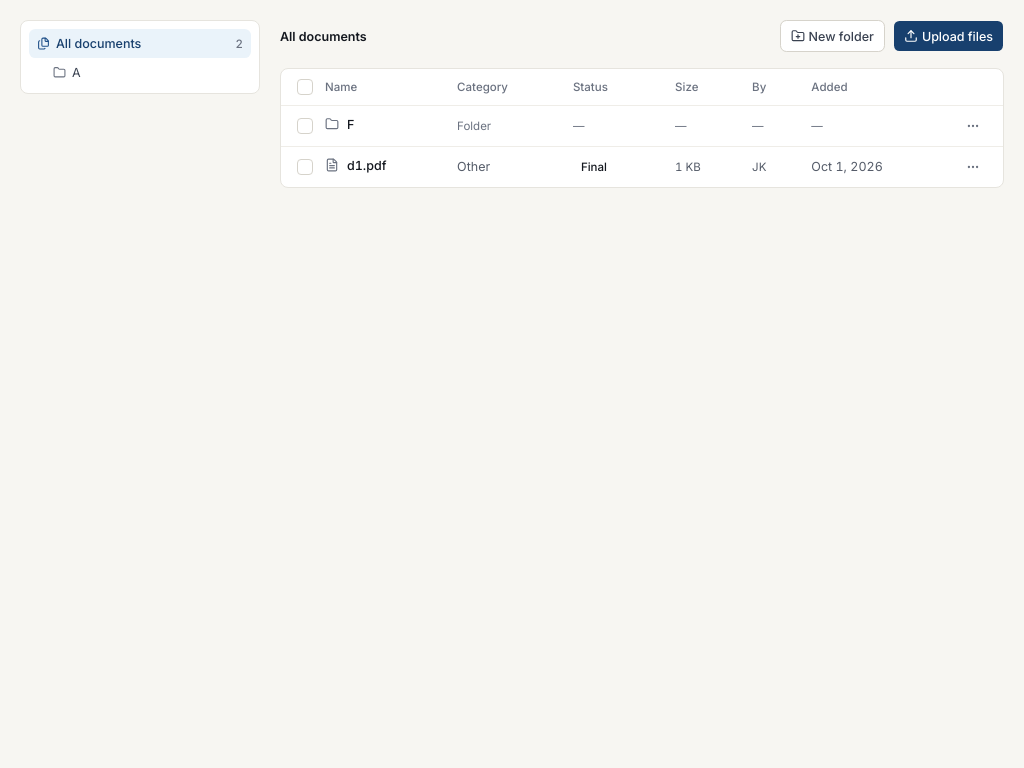
row menu › a mixed selection's move warns too, counting the folder's subtree
What coordinates should you click on to do the following:
click the checkbox named "Select all"
I would click on:
 (305, 87)
Its box is [297,79,313,95].
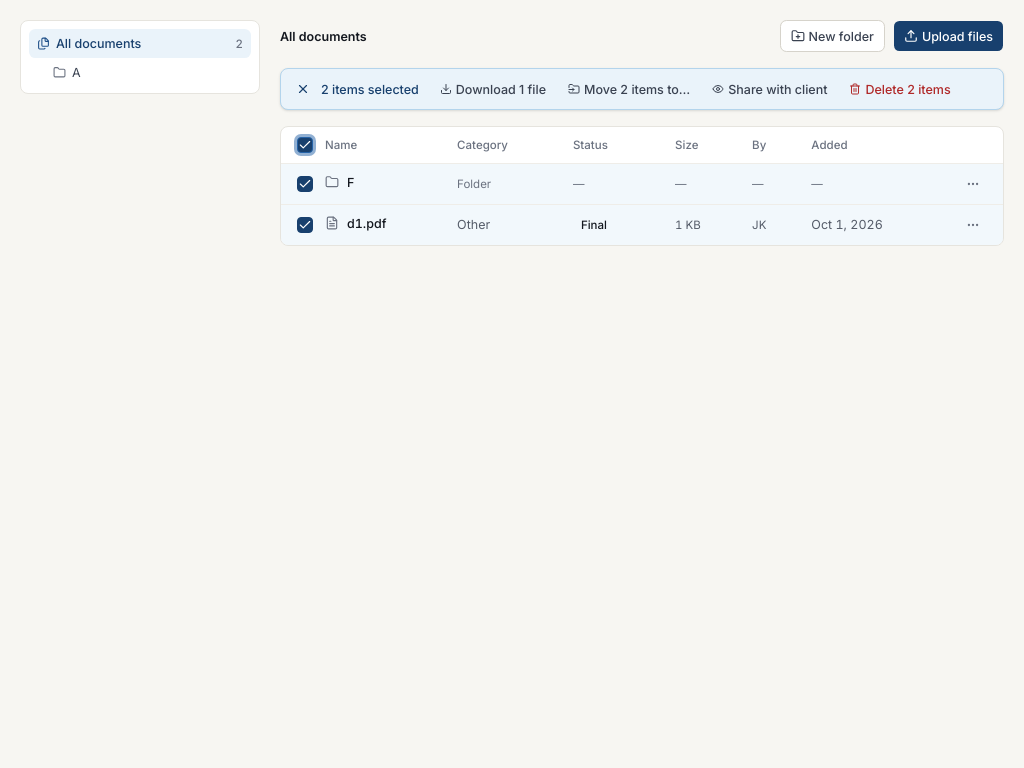
What coordinates should you click on to do the following:
click the button "Move 2 items to…"
I would click on:
 (629, 89)
Its box is [559,75,699,103].
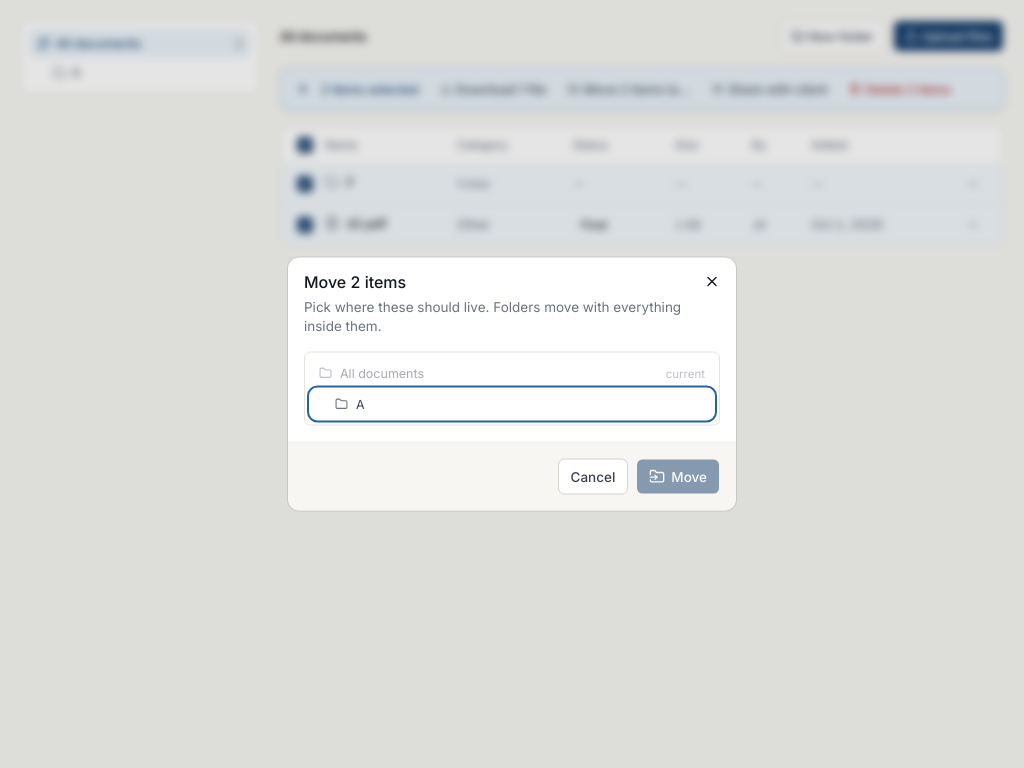
What coordinates should you click on to do the following:
click the button "A"
I would click on:
 (342, 404)
Its box is [311,390,713,418].
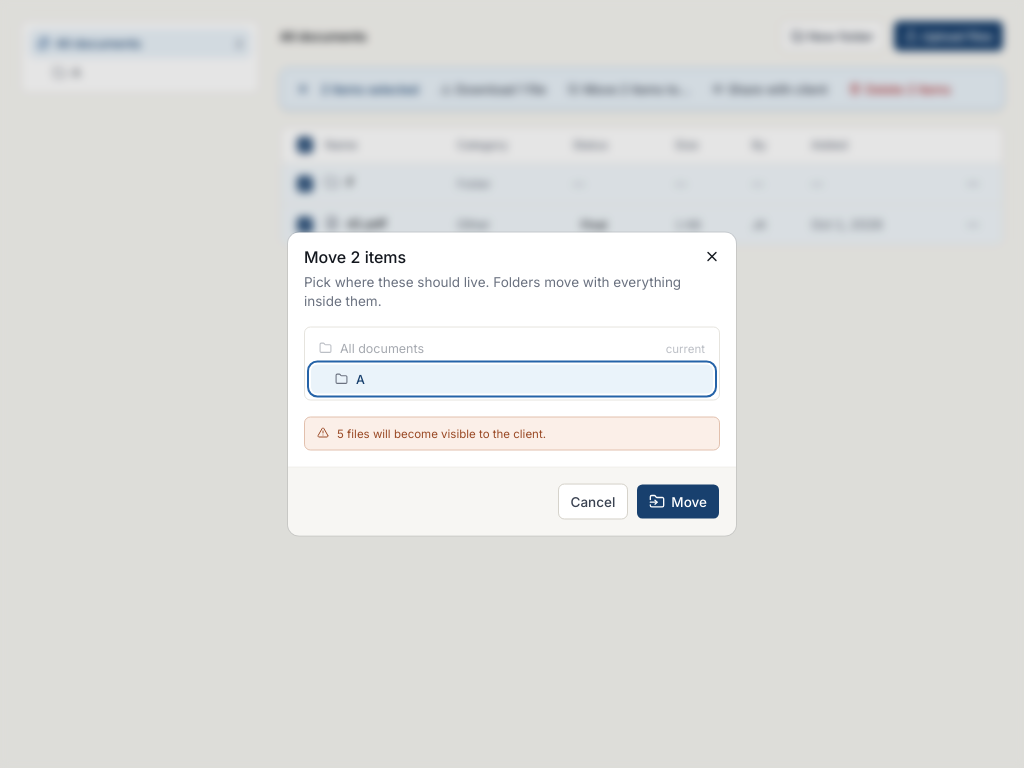
Check: the text "5 files will become visible to the client." is shown, box [337,426,546,442]
